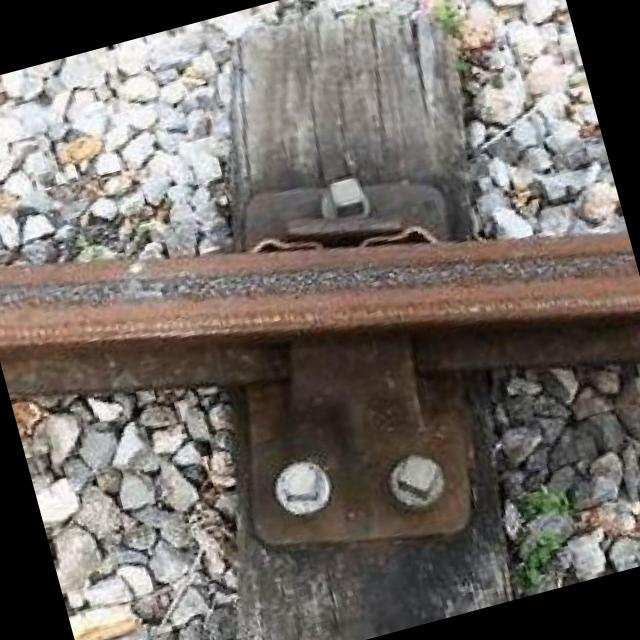defective: (0, 45, 640, 568)
